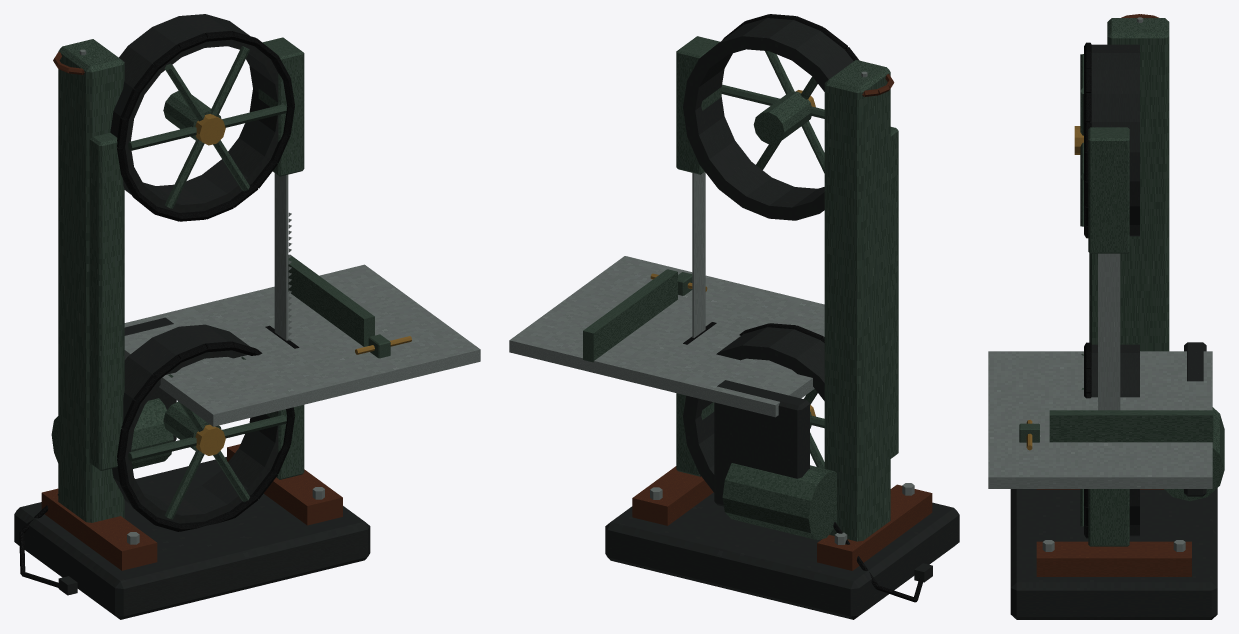
File: level_work_bandsaw.glb
3 renders of one model, left to right at view 1: azimuth 30°, elevation 25°; view 2: azimuth 150°, elevation 25°; view 3: azimuth 270°, elevation 25°, orthographic. The views are drawn at different scales.
Parts seen in each view (by area): view 1: level_work_bandsaw; view 2: level_work_bandsaw; view 3: level_work_bandsaw.
Boxes of the visible parts, x1,y1,x2,y2 form: level_work_bandsaw: (14,14,480,619); level_work_bandsaw: (509,14,959,619); level_work_bandsaw: (988,14,1224,619).
Size of the model in its own units: 1.76 by 2.36 by 0.9864.
Materials: 6 (6 with a texture image).
